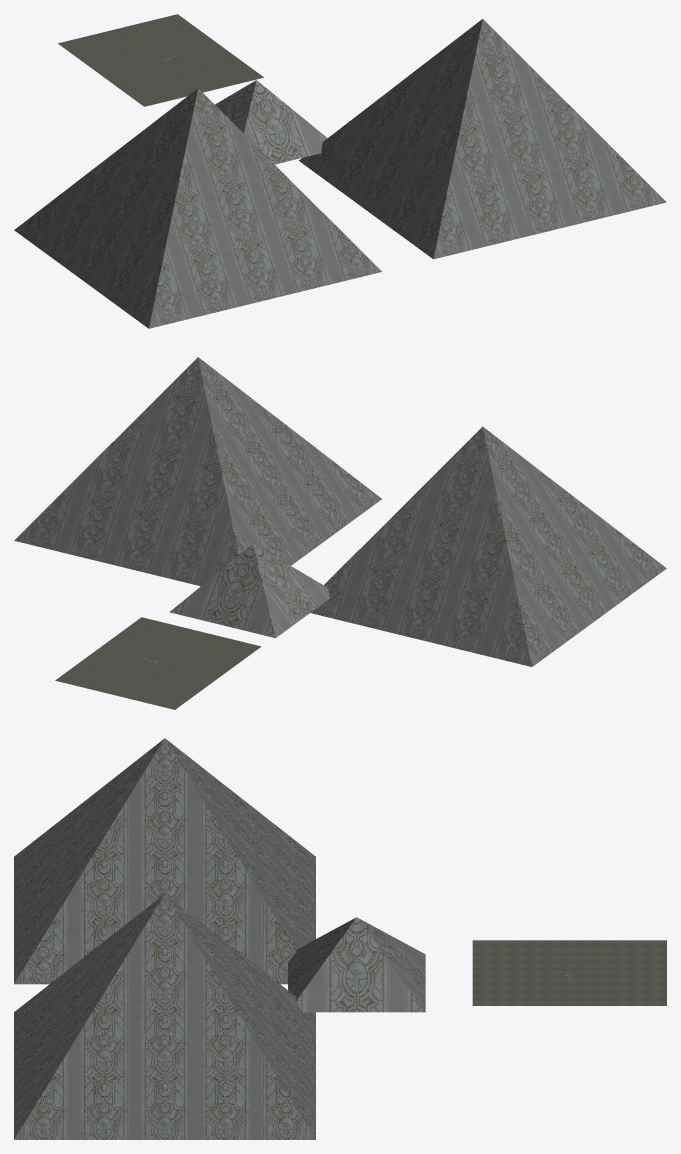
The model's file is level_big.gltf.
3 renders of one model, top to bottom at view 1: azimuth 30°, elevation 25°; view 2: azimuth 150°, elevation 25°; view 3: azimuth 270°, elevation 25°, orthographic. The views are drawn at different scales.
Parts seen in each view (by area): view 1: level; view 2: level; view 3: level.
Boxes of the visible parts, x1=… form: level: x1=14, y1=14, x2=666, y2=328; level: x1=14, y1=357, x2=666, y2=709; level: x1=14, y1=738, x2=666, y2=1139.
Bounding box in the file's own units: 4263 × 1281 × 4155.
2 materials, 2 textured.
